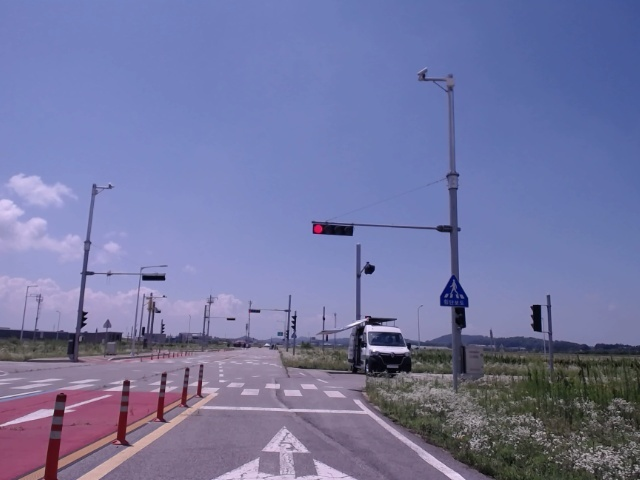red_4: (313, 224, 353, 236)
